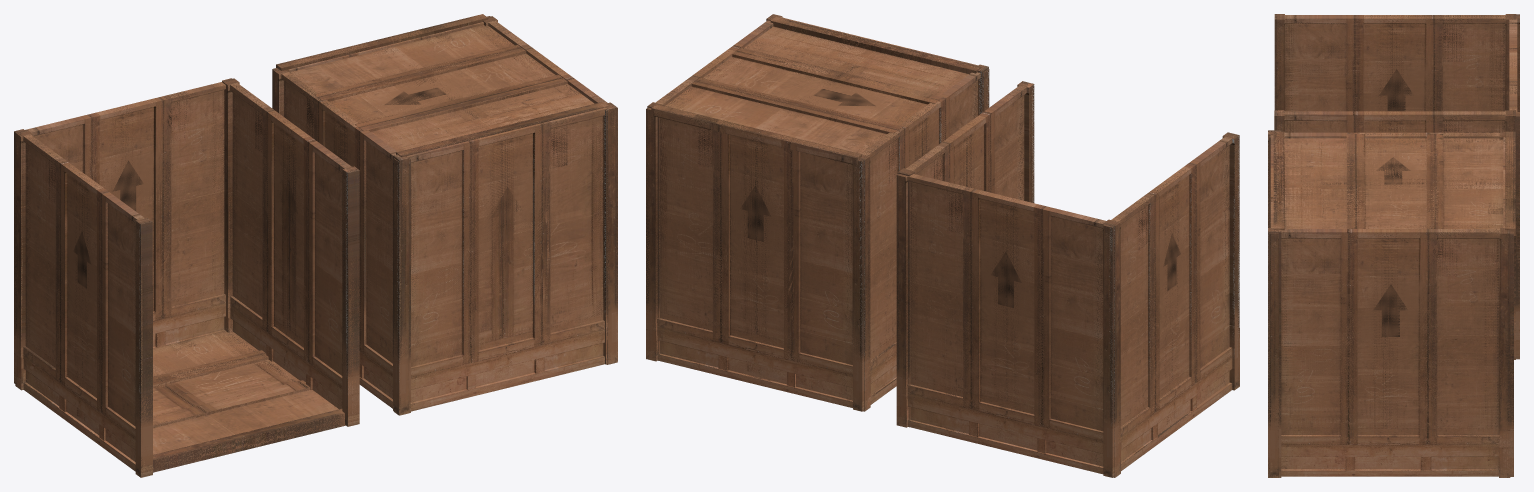
File: Crate.fbx
3 views of the same model, side by side, from view 1: azimuth 30°, elevation 25°; view 2: azimuth 150°, elevation 25°; view 3: azimuth 270°, elevation 25° (orthographic). The views are drawn at different scales.
Visible parts, largest first — view 1: Group2, Group1; view 2: Group2, Group1; view 3: Group1, Group2.
Part boxes in pixels (left/top/right/bottom): Group2: left=14, top=78, right=359, bottom=477; Group1: left=272, top=14, right=617, bottom=415; Group2: left=896, top=81, right=1239, bottom=477; Group1: left=646, top=14, right=989, bottom=411; Group1: left=1268, top=130, right=1515, bottom=477; Group2: left=1274, top=14, right=1519, bottom=359.
Size of the model in its own units: 3.91 by 2.04 by 1.87.
